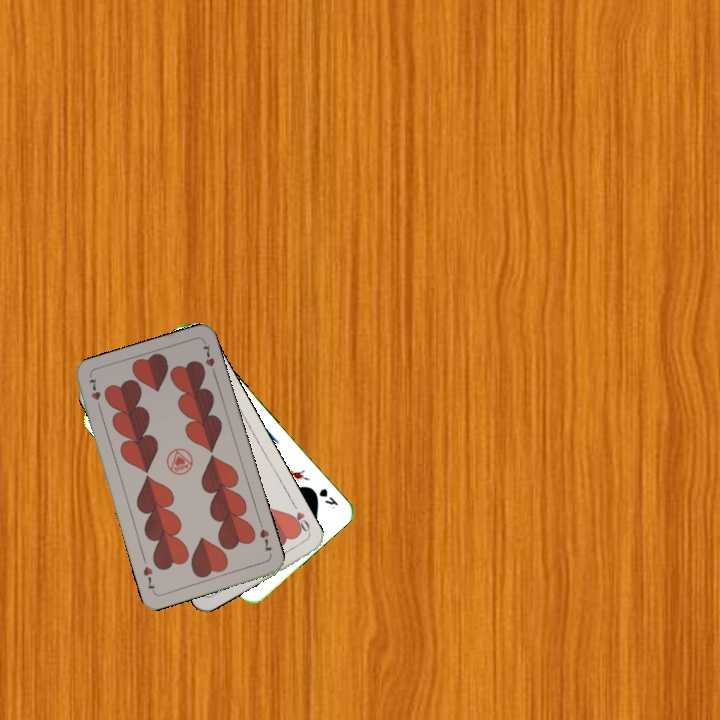GK: (315, 484, 341, 508)
H7: (85, 373, 104, 413), (255, 518, 275, 554)
HO: (286, 499, 313, 537)
